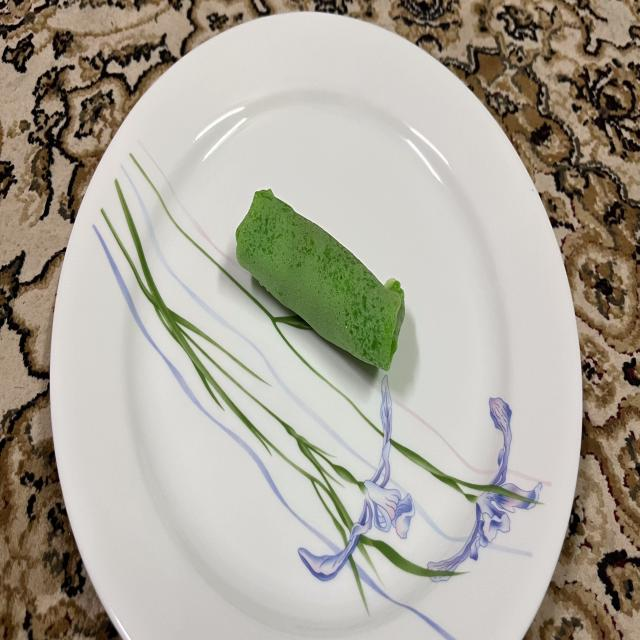Kuih-Ketayap: (236, 189, 405, 371)
